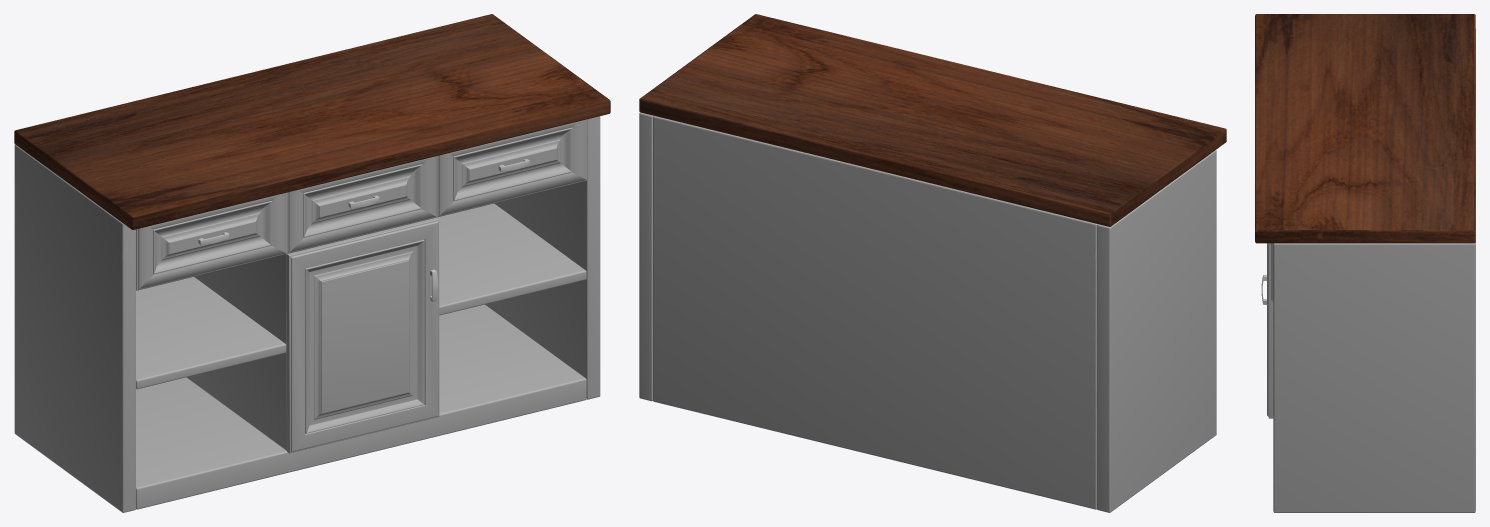
Rendered from visual_HighPoly_19_CounterWithStorage.dae.
3 renders of one model, left to right at view 1: azimuth 30°, elevation 25°; view 2: azimuth 150°, elevation 25°; view 3: azimuth 270°, elevation 25°, orthographic. The views are drawn at different scales.
Parts seen in each view (by area): view 1: SM_counter_storage_high; view 2: SM_counter_storage_high; view 3: SM_counter_storage_high.
Part boxes in pixels (box(x1,y1,x2,y2)): SM_counter_storage_high: box(14, 14, 610, 512); SM_counter_storage_high: box(639, 14, 1226, 512); SM_counter_storage_high: box(1255, 14, 1475, 512).
Size of the model in its own units: 142 by 61.07 by 86.36.
Materials: 1 (1 with a texture image).
